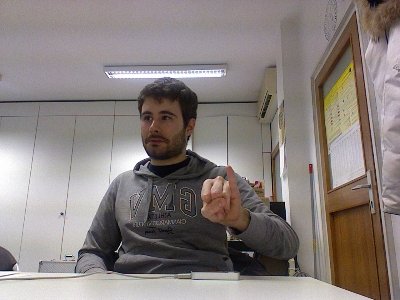小指: (198, 164, 242, 229)
